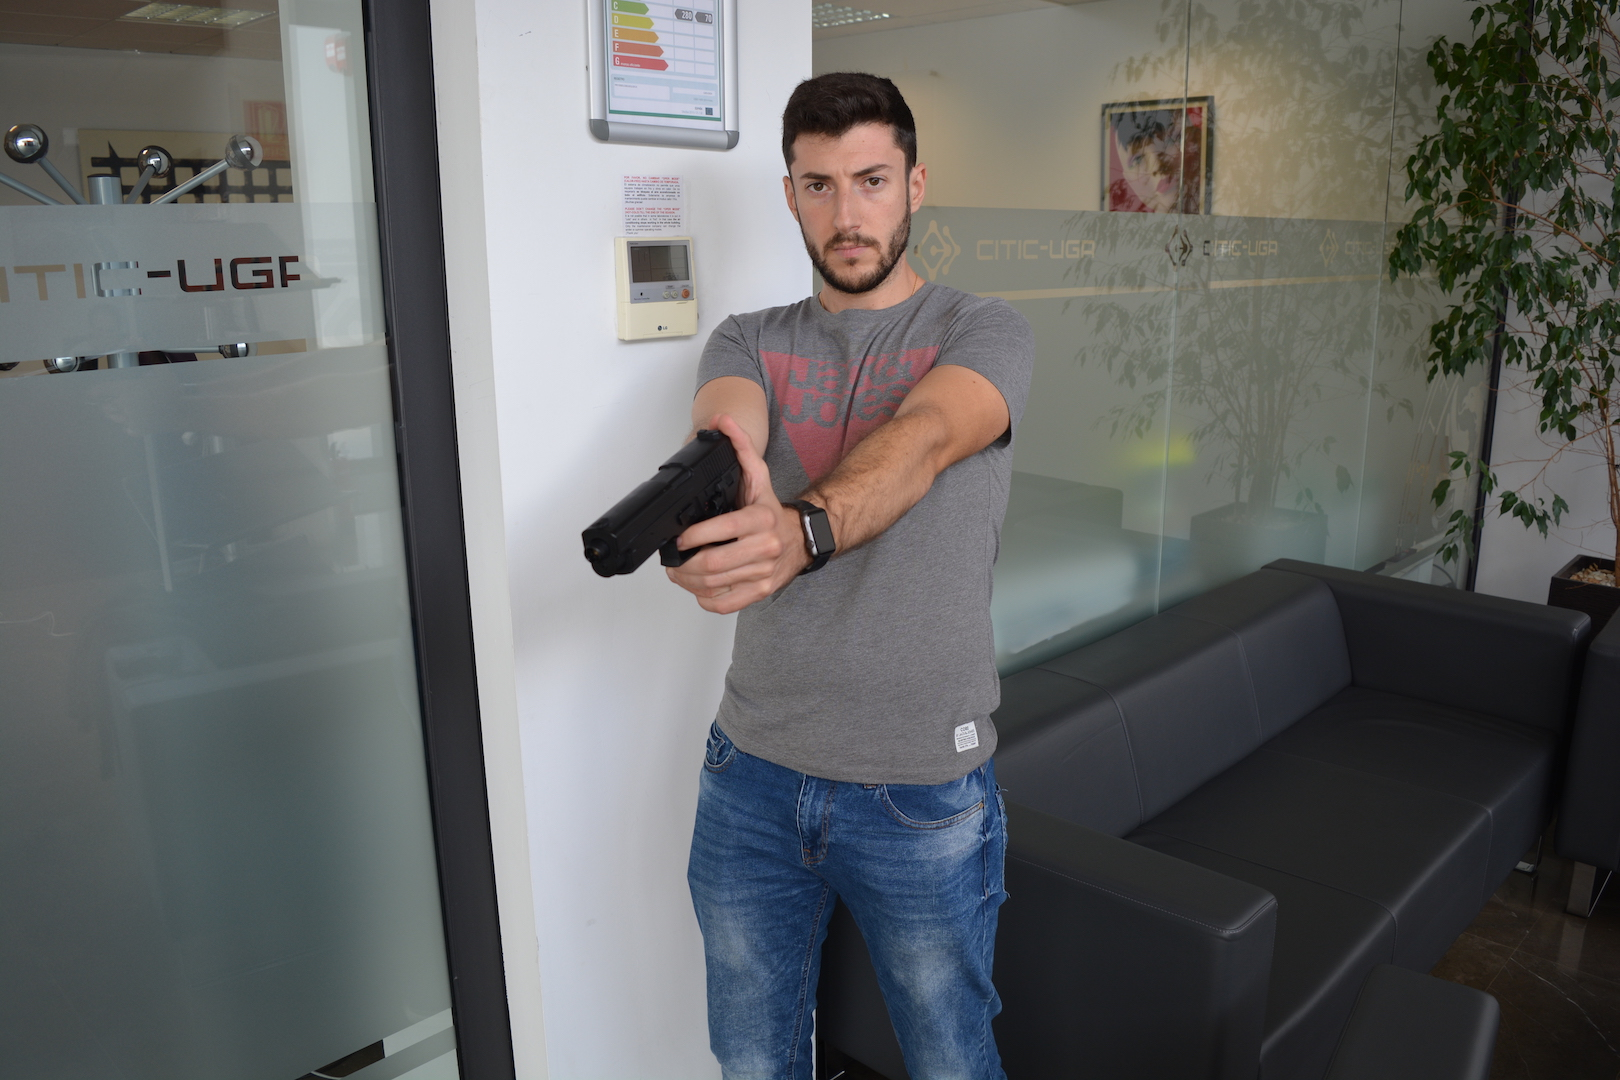pistol: (581, 429, 744, 579)
